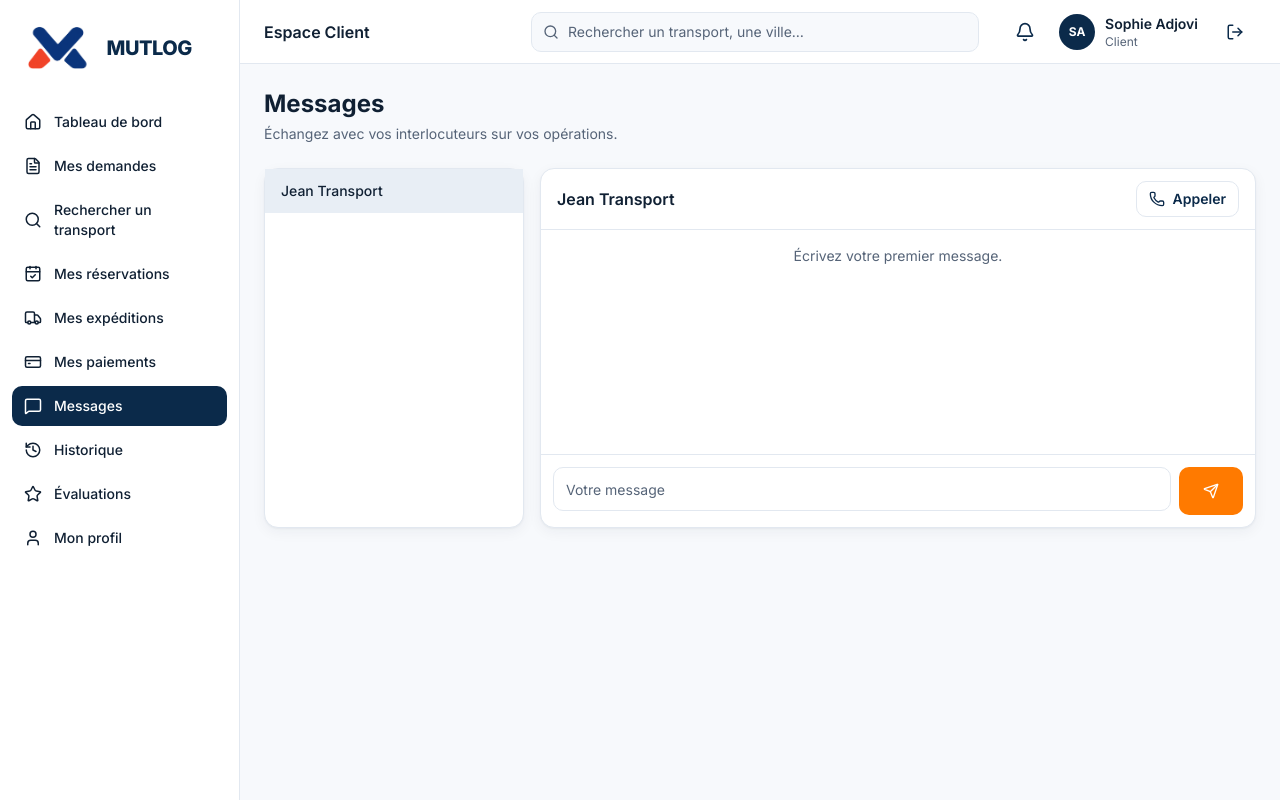
Test case: appel sortant › micro refusé : explication claire, aucun appel créé
Click the button with aria-label "Appeler Jean Transport" at (1187, 199), box [1136, 181, 1239, 217]
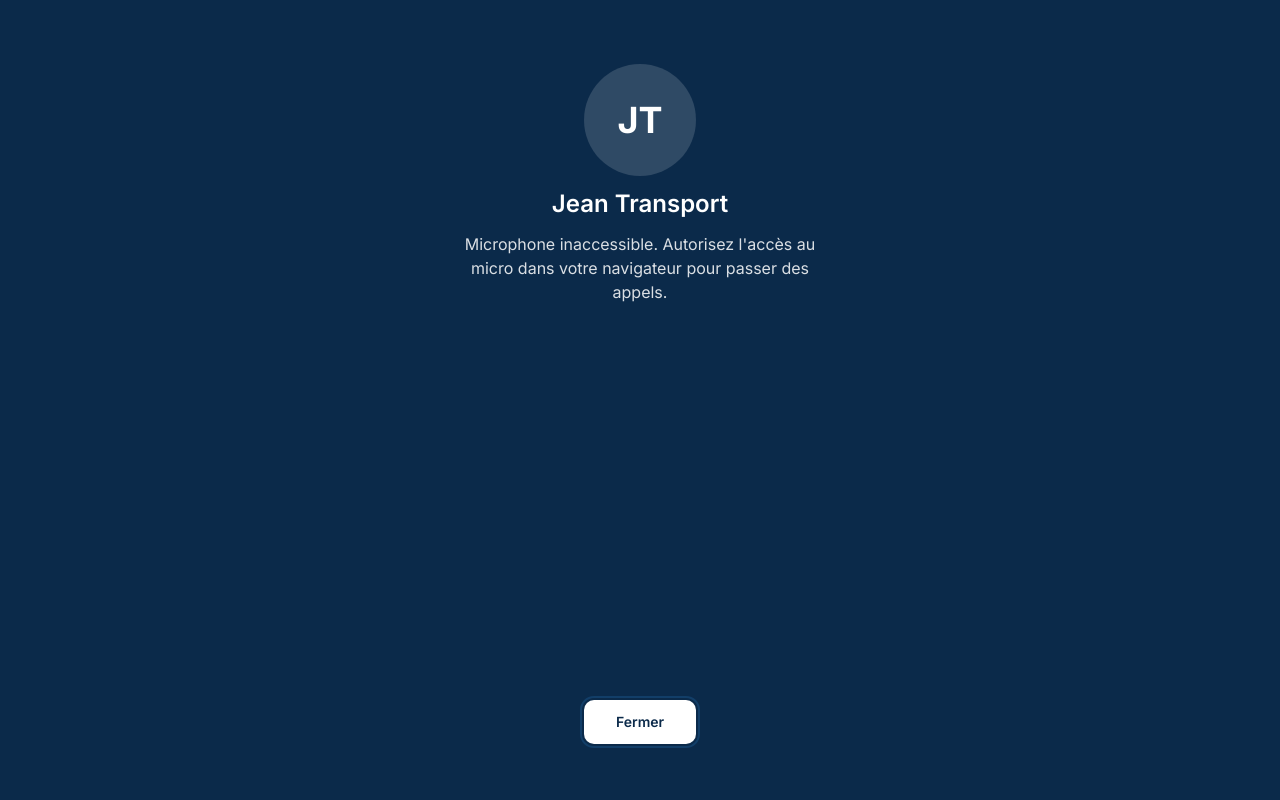
Now the text "Microphone inaccessible" is shown, box [465, 234, 815, 302]
